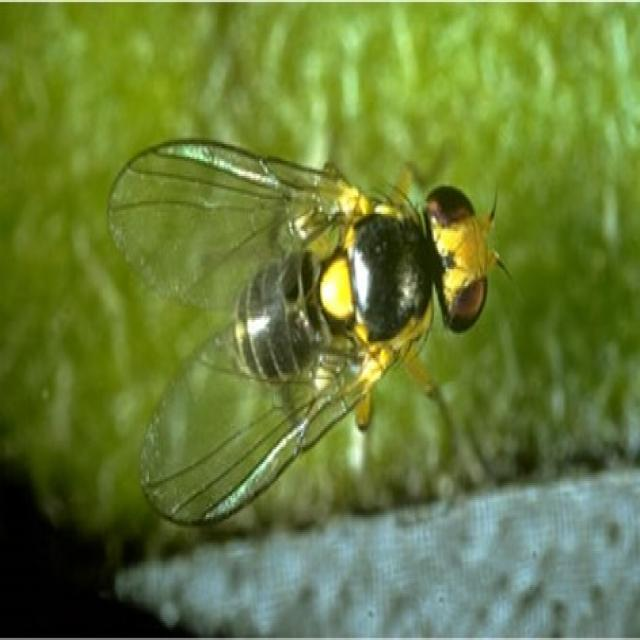Serpentine leafminer: (102, 129, 527, 532)
